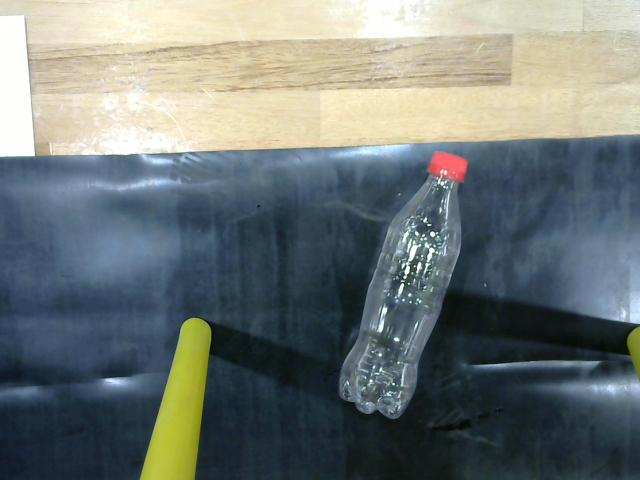bottle: (337, 151, 474, 427)
